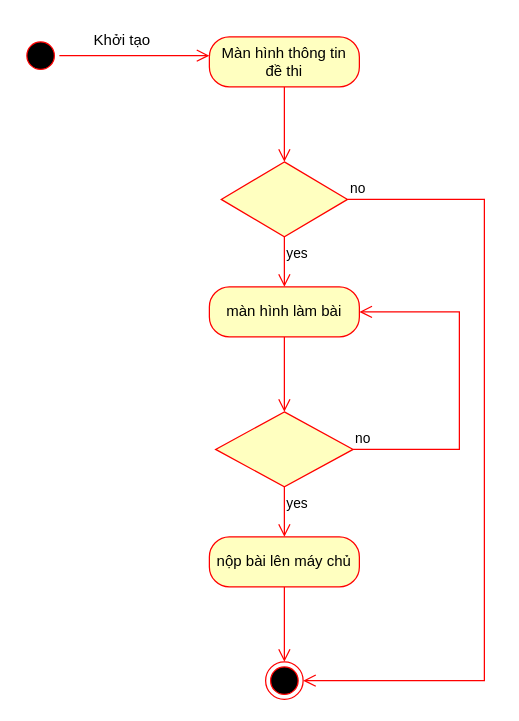
The diagram is 519 pixels wide and 721 high, and some of its shapes have lost their labels. The box of each missing label's shape, as (x1, y1, x2, y2) in pixels:
chọn làm bài: (220, 161, 348, 237)
chọn nộp bài: (214, 411, 353, 487)
